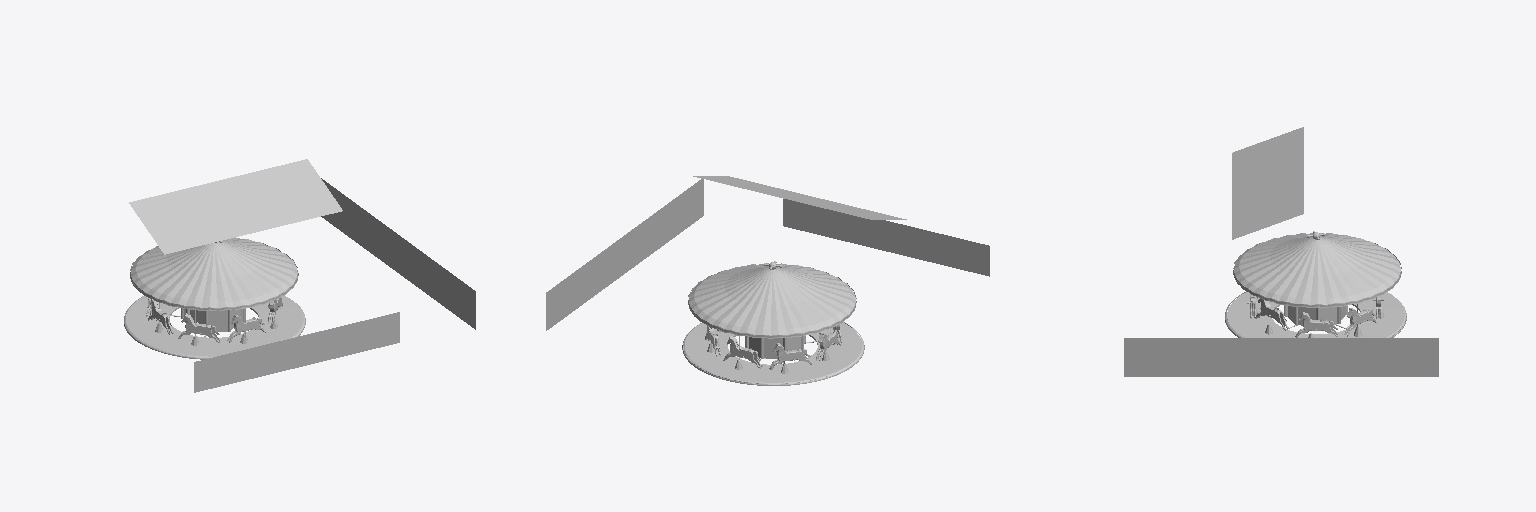
Rendered from carousel.obj.
3 views of the same model, side by side, from view 1: azimuth 30°, elevation 25°; view 2: azimuth 150°, elevation 25°; view 3: azimuth 270°, elevation 25° (orthographic).
Parts seen in each view (by area): view 1: Plane.002, Circle, Plane.001, Plane, Cylinder; view 2: Circle, Plane, Plane.001, Cylinder, Plane.002, Circle.001; view 3: Plane, Circle, Plane.002, Cylinder.
Part boxes in pixels (x1,y1,x2,y2): Plane.002: (129, 159, 342, 254); Circle: (130, 237, 297, 310); Plane.001: (194, 312, 399, 392); Plane: (321, 178, 475, 329); Cylinder: (124, 296, 303, 356); Circle: (688, 263, 855, 338); Plane: (546, 179, 703, 330); Plane.001: (783, 199, 989, 276); Cylinder: (683, 322, 861, 383); Plane.002: (693, 176, 906, 219); Circle.001: (682, 322, 864, 385); Plane: (1124, 338, 1438, 376); Circle: (1233, 233, 1401, 307); Plane.002: (1232, 127, 1303, 239); Cylinder: (1227, 292, 1406, 337).
Size of the model in its own units: 84.7 by 41.54 by 82.19.